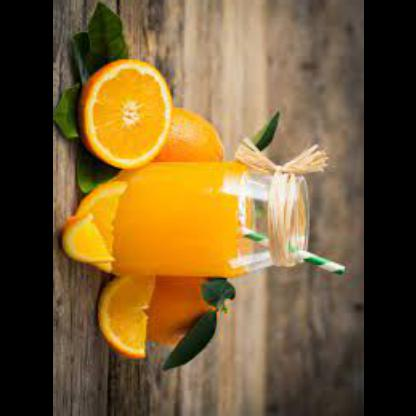orange juice: (102, 160, 256, 280)
